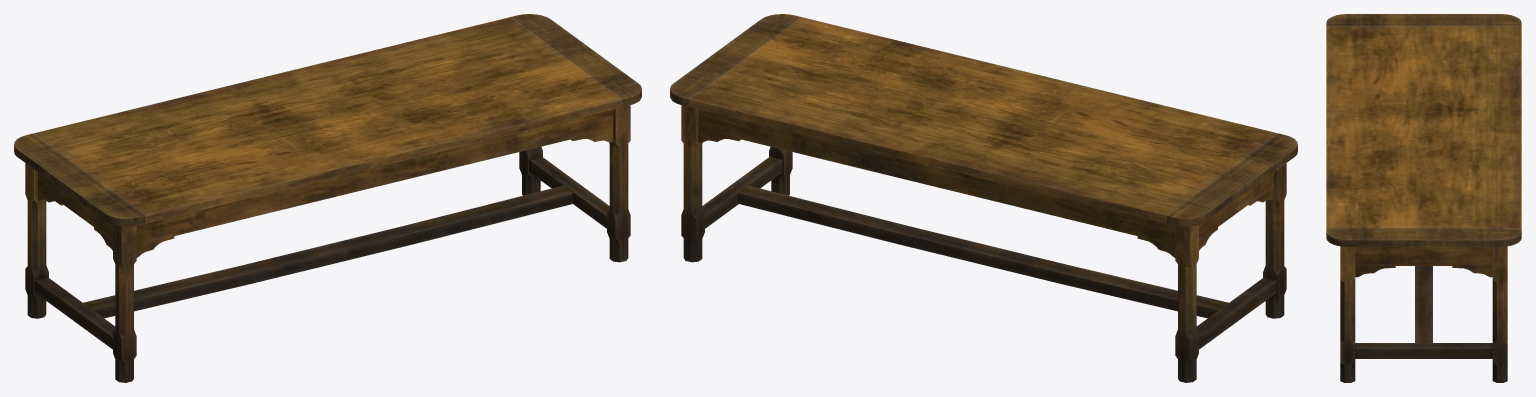
File: WoodenTable_01_1k.gltf
3 views of the same model, side by side, from view 1: azimuth 30°, elevation 25°; view 2: azimuth 150°, elevation 25°; view 3: azimuth 270°, elevation 25° (orthographic). The views are drawn at different scales.
Visible parts, largest first — view 1: WoodenTable_01; view 2: WoodenTable_01; view 3: WoodenTable_01.
Part boxes in pixels (x1,y1,x2,y2): WoodenTable_01: [14, 14, 641, 382]; WoodenTable_01: [670, 14, 1297, 382]; WoodenTable_01: [1326, 14, 1521, 382].
Bounding box in the file's own units: 1.8 × 0.5488 × 0.6572.
1 material, 1 textured.
